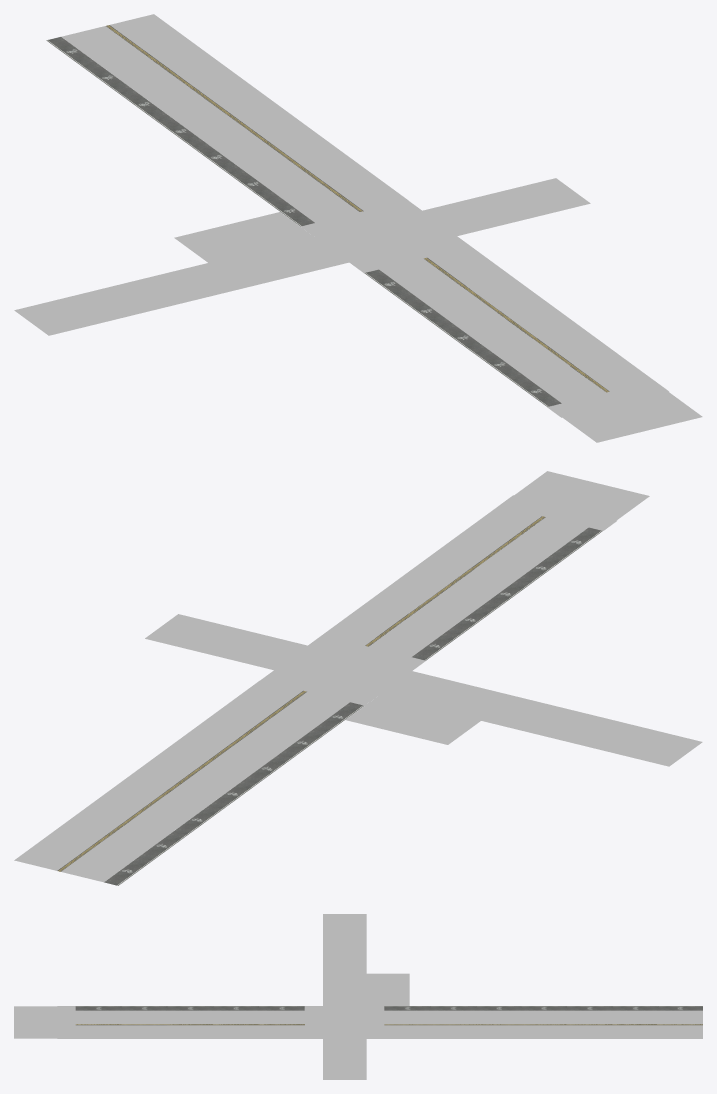
Rendered from daolu.FBX.
3 views of the same model, one above another, from view 1: azimuth 30°, elevation 25°; view 2: azimuth 150°, elevation 25°; view 3: azimuth 270°, elevation 25° (orthographic). The views are drawn at different scales.
Visible parts, largest first — view 1: Plane043, Plane041, Plane015, Plane039, Plane026, Plane024, Plane025, Plane070, Plane056, Plane008, Plane027, Plane077 (+24 smaller); view 2: Plane041, Plane043, Plane015, Plane026, Plane039, Plane024, Plane025, Plane060, Plane027, Plane082, Plane002, Plane058 (+24 smaller); view 3: Plane015, Plane041, Plane043, Plane039, Plane026, Plane024, Plane025, Plane008, Plane033, Plane021, Plane067, Plane044 (+24 smaller).
Part boxes in pixels (bbox=[...]): Plane043: bbox=[174, 212, 314, 263]; Plane041: bbox=[563, 391, 702, 442]; Plane015: bbox=[316, 211, 455, 262]; Plane039: bbox=[455, 178, 590, 228]; Plane026: bbox=[180, 245, 315, 295]; Plane024: bbox=[95, 270, 214, 315]; Plane025: bbox=[14, 290, 129, 335]; Plane070: bbox=[416, 285, 496, 322]; Plane056: bbox=[145, 40, 225, 77]; Plane008: bbox=[279, 185, 359, 222]; Plane027: bbox=[464, 273, 544, 311]; Plane077: bbox=[537, 327, 617, 364]; Plane041: bbox=[514, 471, 649, 520]; Plane043: bbox=[346, 696, 480, 744]; Plane015: bbox=[276, 646, 410, 695]; Plane026: bbox=[410, 679, 541, 727]; Plane039: bbox=[145, 614, 276, 662]; Plane024: bbox=[509, 703, 623, 747]; Plane025: bbox=[591, 723, 702, 766]; Plane060: bbox=[14, 834, 91, 870]; Plane027: bbox=[357, 583, 435, 619]; Plane082: bbox=[369, 620, 446, 656]; Plane002: bbox=[225, 680, 302, 716]; Plane058: bbox=[96, 820, 173, 856]; Plane015: bbox=[323, 1006, 366, 1038]; Plane041: bbox=[14, 1006, 57, 1038]; Plane043: bbox=[366, 973, 409, 1005]; Plane039: bbox=[323, 1048, 366, 1079]; Plane026: bbox=[323, 965, 366, 995]; Plane024: bbox=[323, 939, 366, 964]; Plane025: bbox=[323, 914, 366, 938]; Plane008: bbox=[384, 1010, 430, 1024]; Plane033: bbox=[121, 1010, 167, 1024]; Plane021: bbox=[430, 1010, 476, 1024]; Plane067: bbox=[566, 1010, 612, 1024]; Plane044: bbox=[476, 1010, 521, 1024].
Bounding box in the file's own units: 12773 × 0.5 × 22449.
